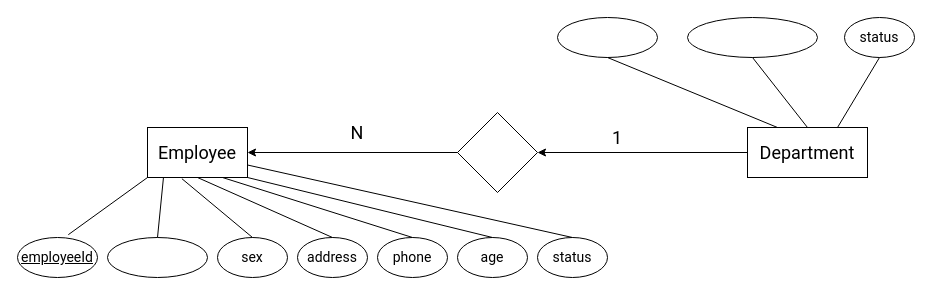
Image size: 932x295. Some labels were removed from this diagram. The centre of each missing label's shape, as x and y in pixels:
Có: point 497,152
departmentId: point 607,37
departmentName: point 752,37
employeeName: point 157,257
